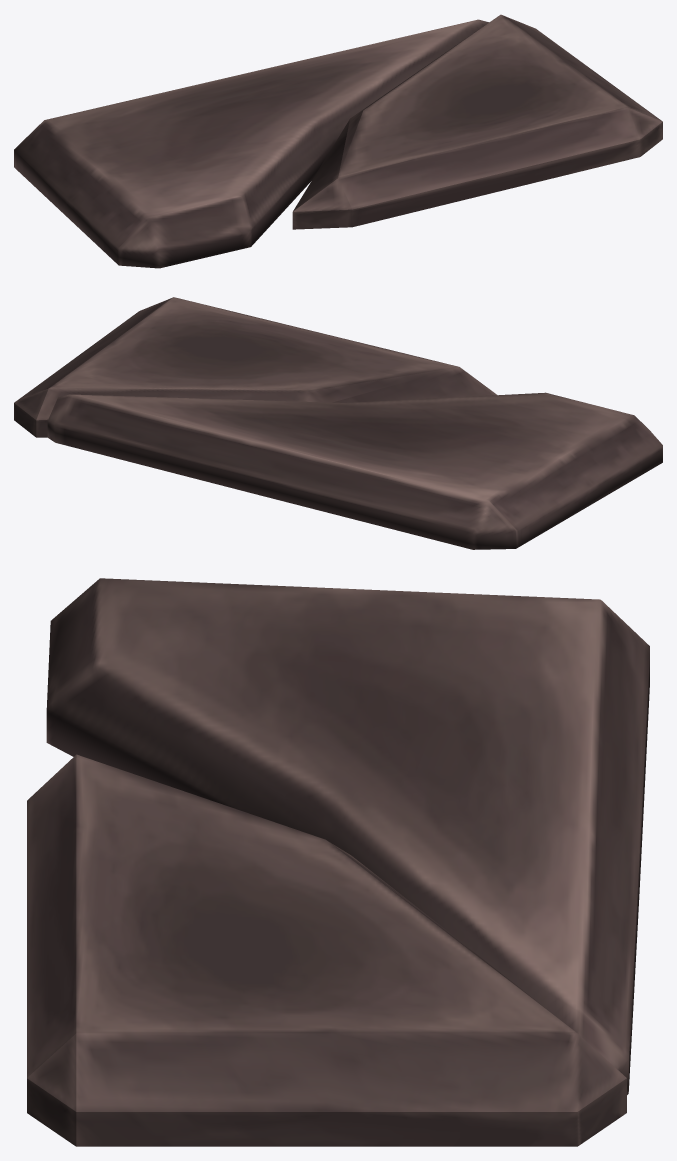
The model's file is rock_18.fbx.
3 renders of one model, top to bottom at view 1: azimuth 30°, elevation 25°; view 2: azimuth 150°, elevation 25°; view 3: azimuth 270°, elevation 25°, orthographic. The views are drawn at different scales.
Visible parts, largest first — view 1: rock_18; view 2: rock_18; view 3: rock_18.
Boxes of the visible parts, bbox=[...] form: rock_18: bbox=[14, 14, 662, 268]; rock_18: bbox=[14, 297, 662, 549]; rock_18: bbox=[27, 578, 649, 1146].
Size of the model in its own units: 1.76 by 0.1262 by 0.896.
